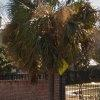Palm tree: (8, 4, 67, 99)
